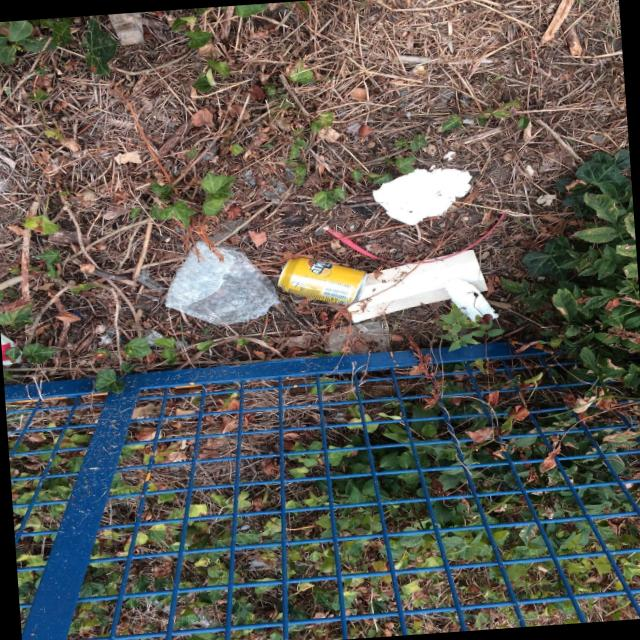less trash: (279, 251, 486, 320), (165, 243, 277, 324), (374, 168, 470, 224)
